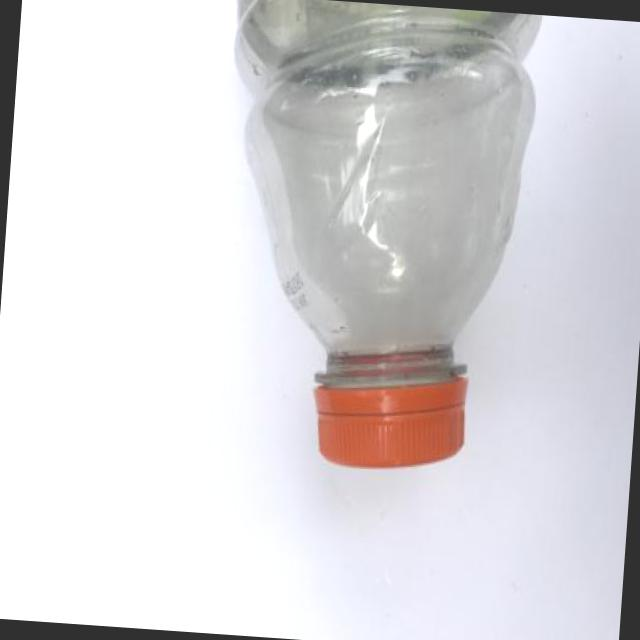Recycle: (196, 0, 543, 492)
